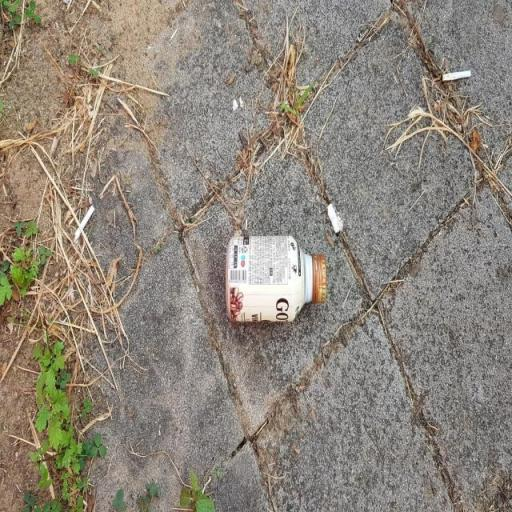metal: (180, 206, 346, 358)
